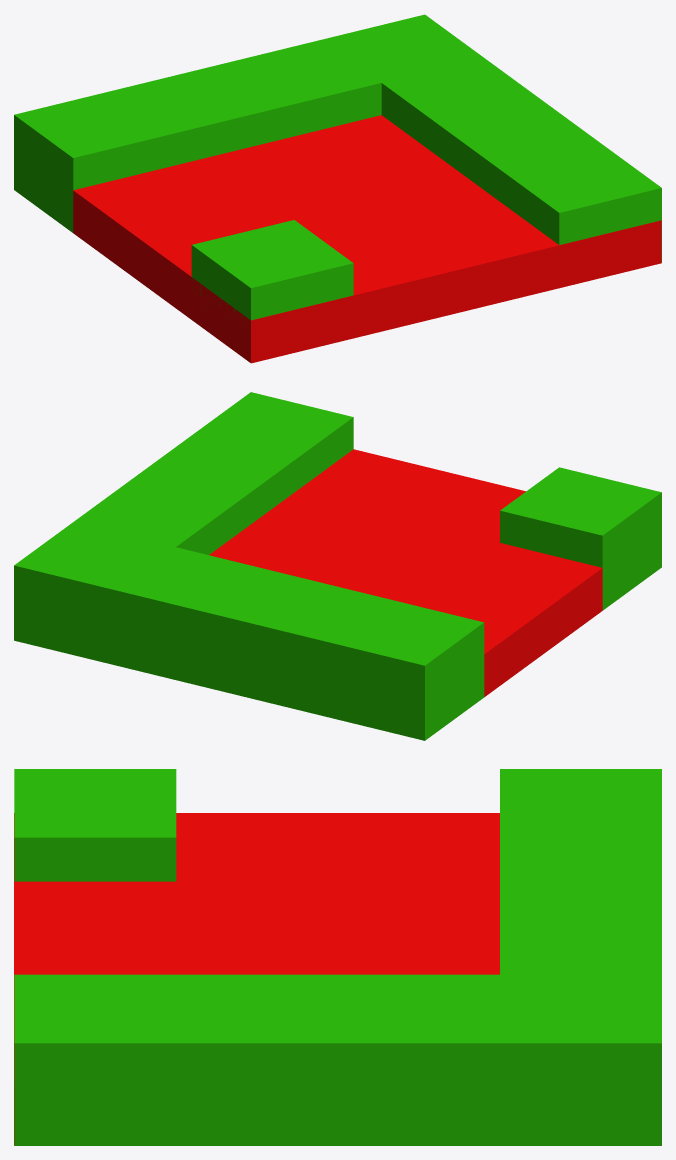
File: modular_pieces_corner_1.FBX
The picture shows the model from 3 angles, top to bottom: view 1: azimuth 30°, elevation 25°; view 2: azimuth 150°, elevation 25°; view 3: azimuth 270°, elevation 25°; orthographic projection. The views are drawn at different scales.
Parts seen in each view (by area): view 1: modular_piece_corner_1; view 2: modular_piece_corner_1; view 3: modular_piece_corner_1.
Part boxes in pixels (box(x1,y1,x2,y2)): modular_piece_corner_1: box(14, 14, 661, 363); modular_piece_corner_1: box(14, 392, 661, 740); modular_piece_corner_1: box(14, 769, 661, 1145).
Size of the model in its own units: 100 by 17.5 by 100.
